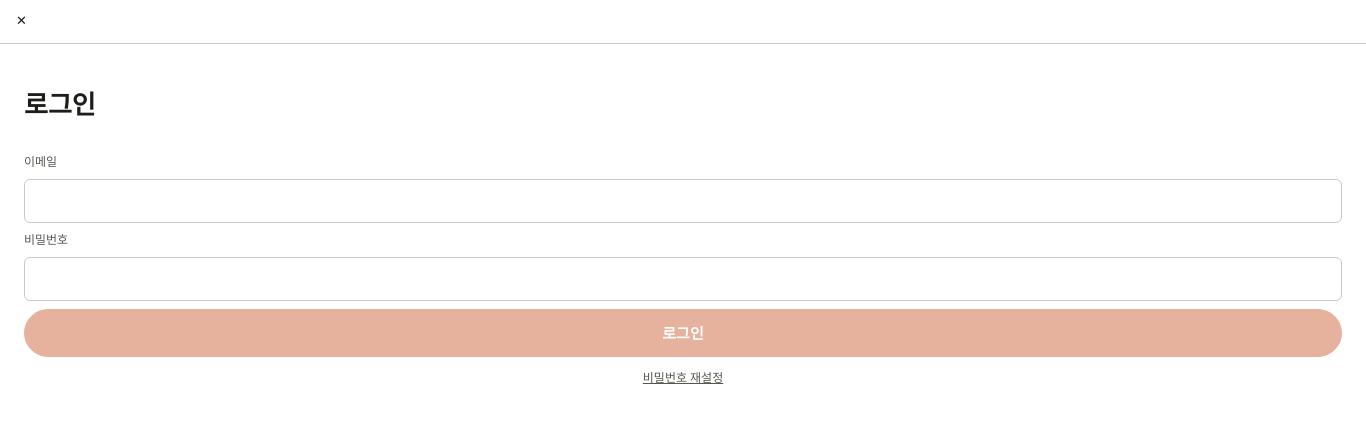
it: LoginPage (A1) › 로그인 200 뒤 findMe가 403(정지)이면 서버 message를 보이고 세션을 지우며 /login에 머문다
The width and height of the screenshot is (1366, 427).
Type "a@b.c" into the field labelled "이메일" at {"x": 683, "y": 201}, box [24, 179, 1342, 223]
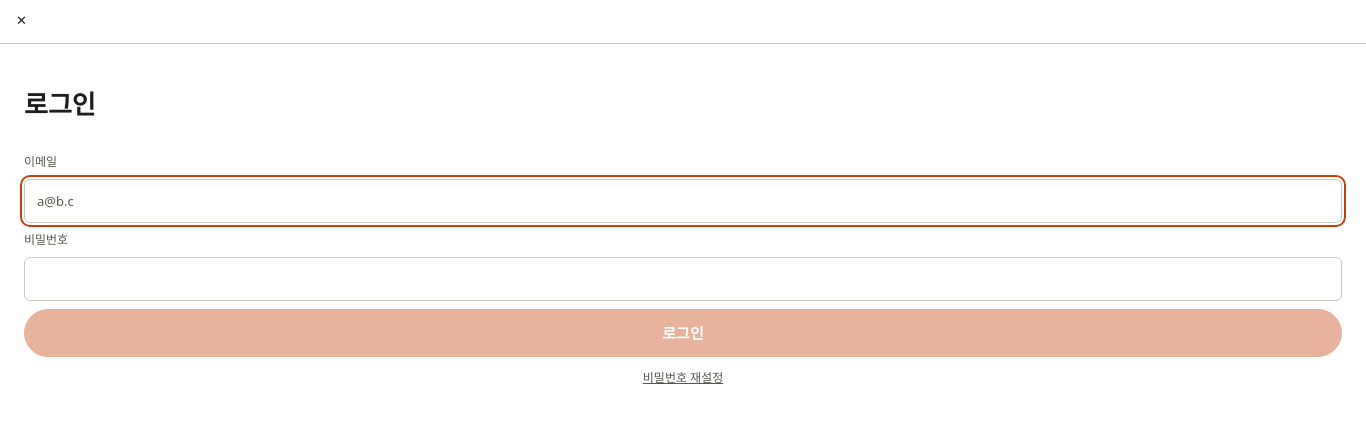
Type "pw" into the password field labelled "비밀번호" at {"x": 683, "y": 279}, box [24, 257, 1342, 301]
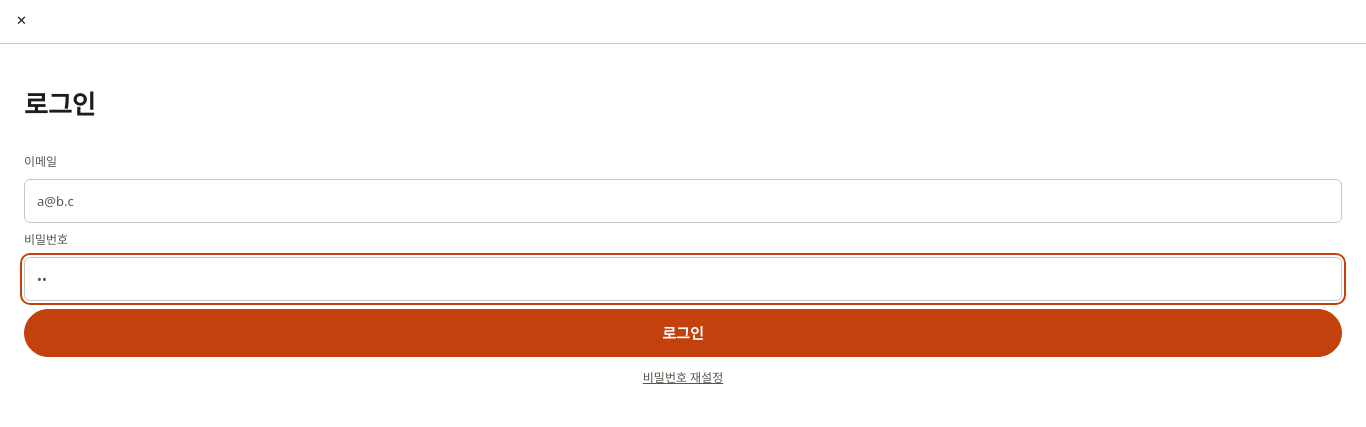
Click the button "로그인" at {"x": 683, "y": 333}, box [24, 309, 1342, 357]
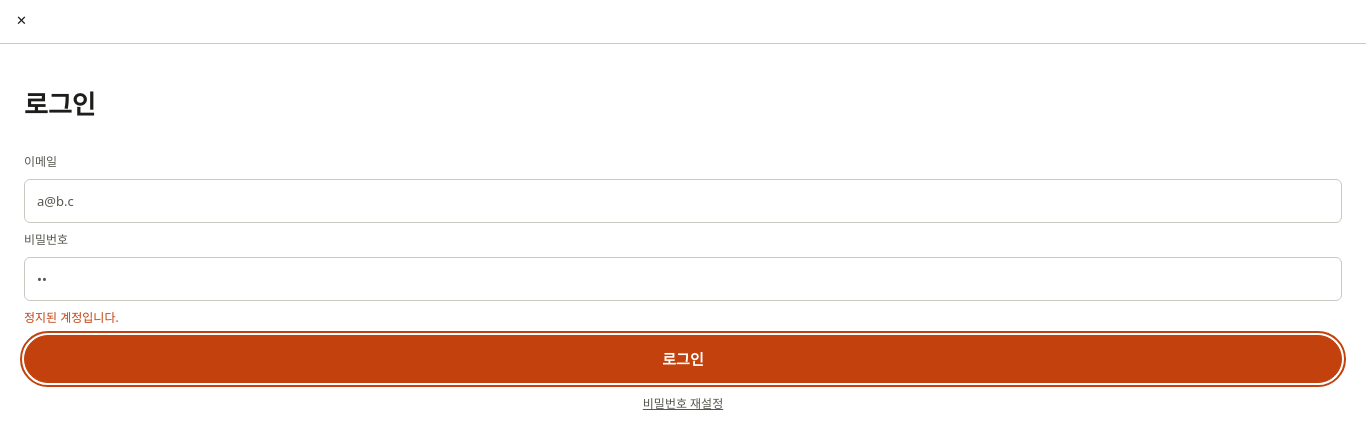
Expected: the message reads "정지된 계정입니다.", [24, 309, 119, 326]
